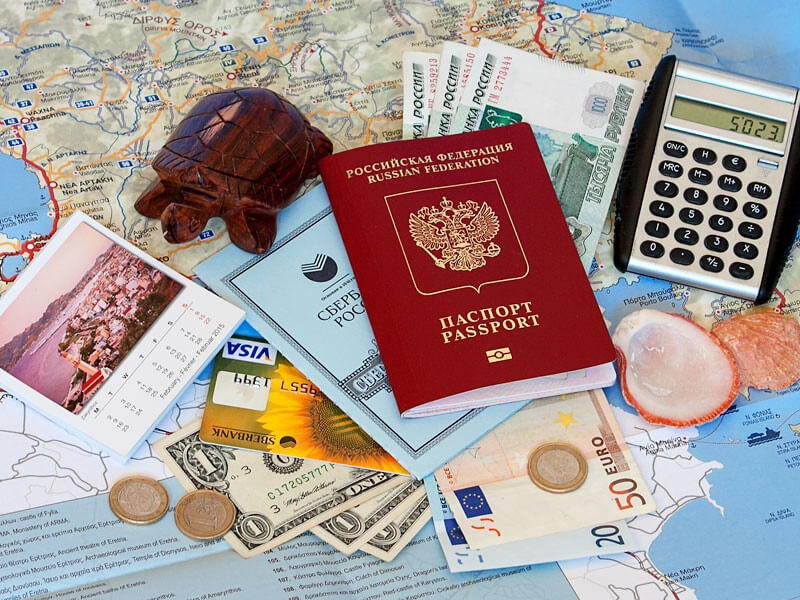cash: (403, 37, 644, 275), (424, 388, 657, 571), (148, 418, 432, 560)
